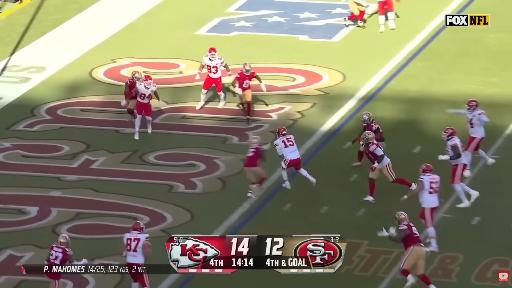Helmet: (466, 99, 478, 113), (442, 127, 456, 139), (131, 221, 145, 233), (395, 212, 408, 224), (361, 112, 373, 125), (361, 131, 375, 142), (58, 234, 70, 246), (131, 70, 142, 82), (420, 164, 433, 174), (276, 127, 287, 138), (208, 47, 217, 60), (143, 75, 152, 87), (250, 136, 261, 145), (243, 63, 251, 75)
Jersey: (363, 140, 390, 168), (124, 232, 148, 263), (418, 174, 439, 207), (398, 222, 422, 250), (274, 136, 300, 159), (467, 110, 489, 137), (447, 137, 466, 165), (202, 56, 225, 78), (47, 244, 72, 264), (245, 145, 264, 167), (236, 71, 256, 91), (136, 83, 156, 102), (363, 121, 383, 139), (125, 79, 137, 99)
Player: (378, 212, 435, 287), (362, 131, 416, 202), (402, 164, 440, 251), (438, 127, 479, 207), (274, 127, 316, 188), (464, 100, 495, 177), (196, 48, 231, 109), (231, 63, 266, 123), (123, 222, 151, 287), (352, 112, 385, 166), (135, 75, 160, 139), (244, 136, 266, 197), (45, 235, 87, 265), (122, 71, 142, 120), (344, 0, 367, 28), (378, 0, 395, 32)
